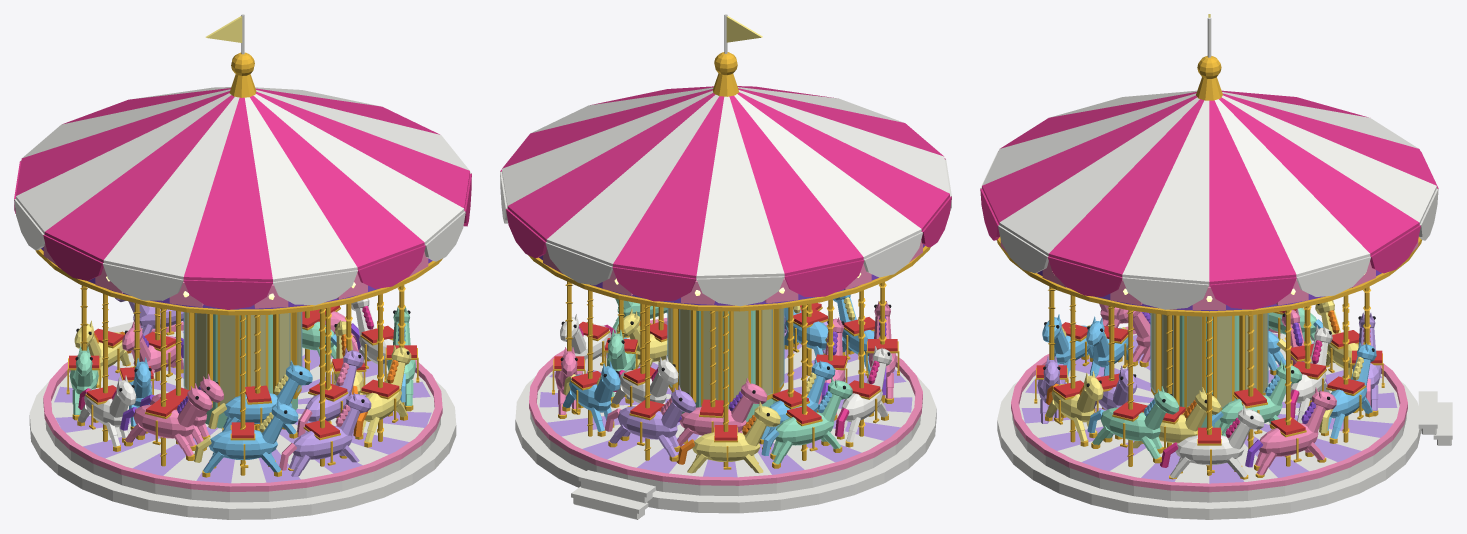
Rendered from Carousel.fbx.
The picture shows the model from 3 angles, left to right: view 1: azimuth 30°, elevation 25°; view 2: azimuth 150°, elevation 25°; view 3: azimuth 270°, elevation 25°; orthographic projection.
Visible parts, largest first — view 1: Carousel_White, Carousel_HotPink, Carousel, Carousel_Pink, Carousel_Lilac, Carousel_SkyBlue, Carousel_Red, Carousel_Glass, Carousel_Lemon, Carousel_Mint, Carousel_Purple, Carousel_Orange; view 2: Carousel_White, Carousel_HotPink, Carousel, Carousel_Pink, Carousel_Lilac, Carousel_Glass, Carousel_Red, Carousel_Mint, Carousel_SkyBlue, Carousel_Lemon, Carousel_Purple; view 3: Carousel_White, Carousel_HotPink, Carousel, Carousel_Pink, Carousel_Lilac, Carousel_Mint, Carousel_SkyBlue, Carousel_Glass, Carousel_Lemon, Carousel_Red, Carousel_Purple.
Boxes of the visible parts, x1,y1,x2,y2 form: Carousel_White: [14, 14, 471, 519]; Carousel_HotPink: [14, 88, 471, 409]; Carousel: [35, 52, 442, 477]; Carousel_Pink: [43, 243, 442, 491]; Carousel_Lilac: [54, 298, 431, 483]; Carousel_SkyBlue: [129, 322, 405, 472]; Carousel_Red: [69, 305, 416, 438]; Carousel_Glass: [183, 312, 302, 404]; Carousel_Lemon: [74, 16, 411, 462]; Carousel_Mint: [69, 307, 416, 428]; Carousel_Purple: [41, 247, 432, 430]; Carousel_Orange: [94, 331, 398, 436]; Carousel_White: [500, 14, 951, 519]; Carousel_HotPink: [500, 86, 951, 436]; Carousel: [528, 52, 930, 469]; Carousel_Pink: [529, 240, 922, 485]; Carousel_Lilac: [539, 315, 912, 477]; Carousel_Glass: [667, 308, 784, 399]; Carousel_Red: [554, 303, 897, 440]; Carousel_Mint: [607, 298, 852, 464]; Carousel_SkyBlue: [563, 294, 874, 455]; Carousel_Lemon: [563, 16, 855, 473]; Carousel_Purple: [539, 244, 924, 422]; Carousel_White: [980, 17, 1452, 519]; Carousel_HotPink: [980, 90, 1438, 467]; Carousel: [997, 56, 1421, 479]; Carousel_Pink: [1000, 240, 1418, 492]; Carousel_Lilac: [1021, 312, 1397, 483]; Carousel_Mint: [1092, 308, 1316, 458]; Carousel_SkyBlue: [1042, 314, 1376, 438]; Carousel_Glass: [1150, 313, 1268, 407]; Carousel_Lemon: [1045, 14, 1363, 448]; Carousel_Red: [1036, 309, 1382, 443]; Carousel_Purple: [1037, 270, 1381, 467].
Bounding box in the file's own units: 30.24 × 30 × 31.16.
